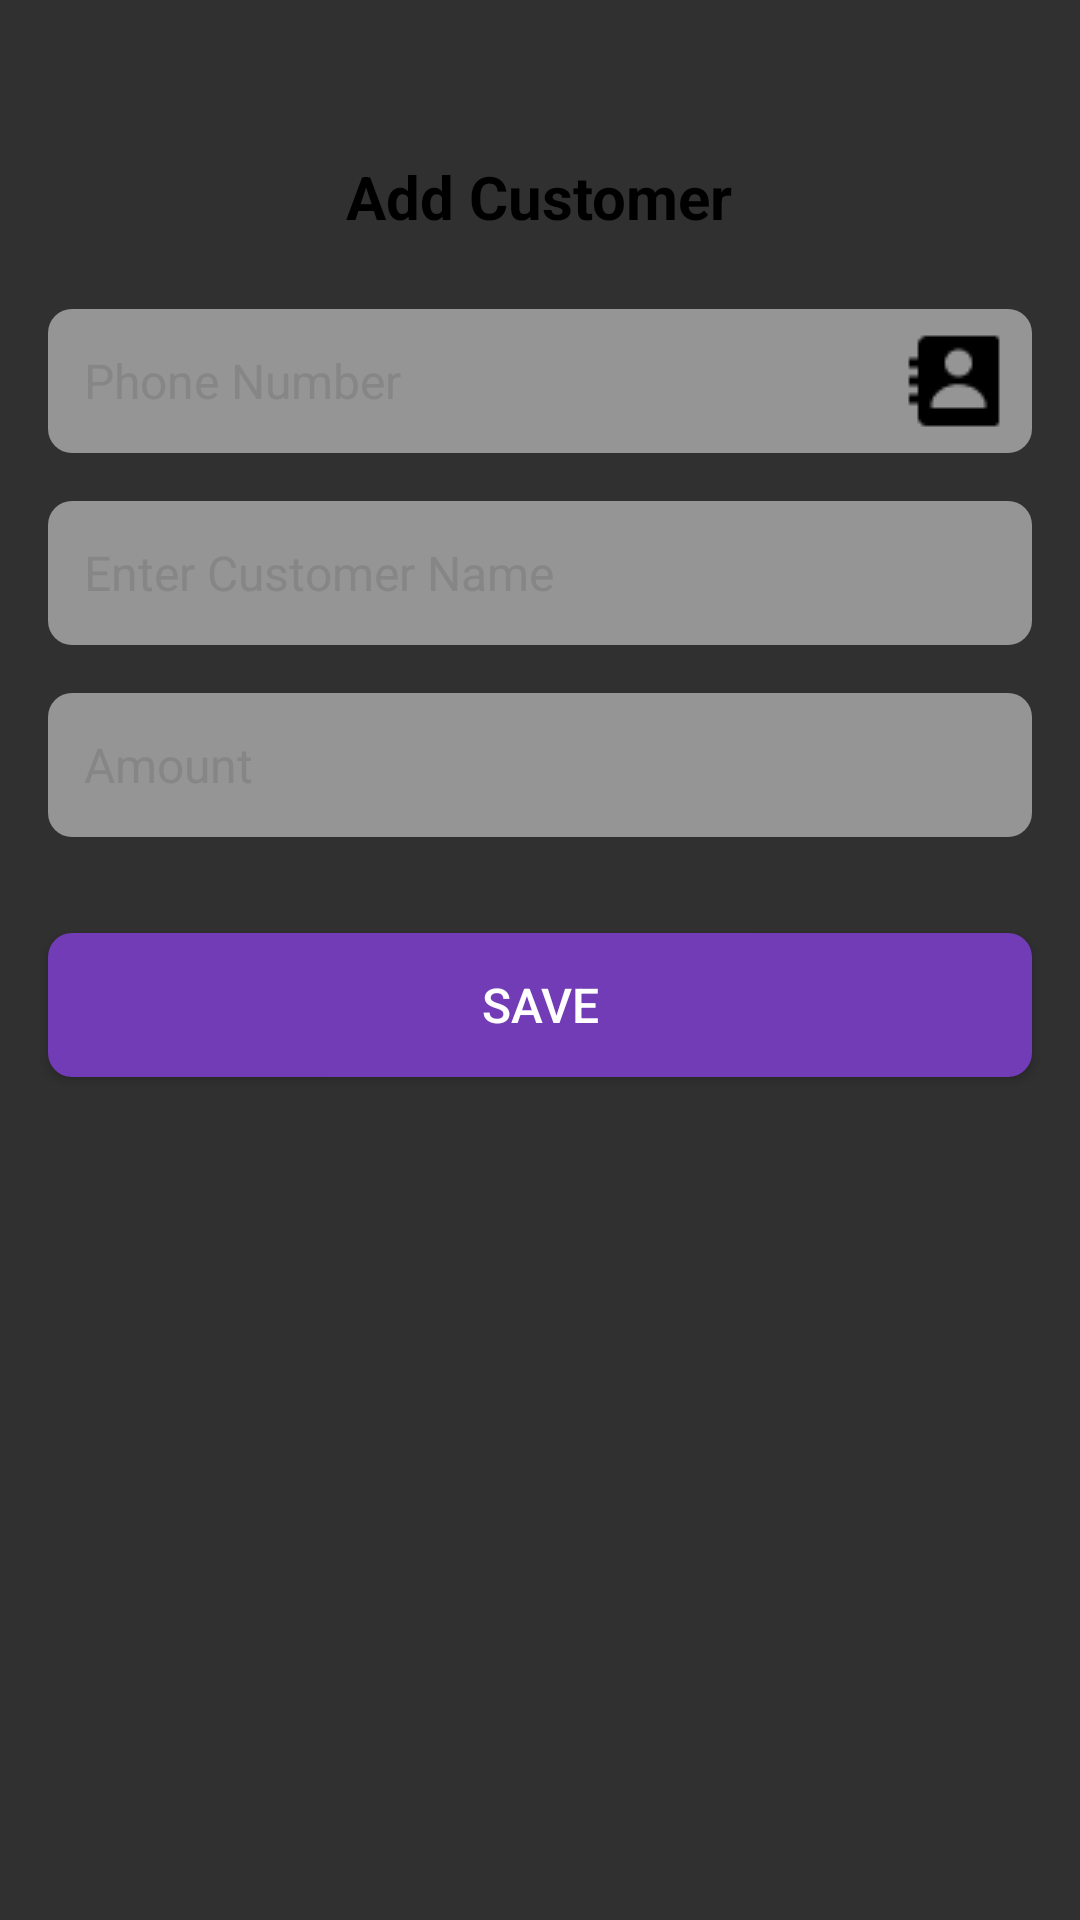

Screen size 1080px×1920px. Icon name, then its box in pixels as Rect(x1, y1, x2, y2):
contact: Rect(908, 335, 1000, 427)
